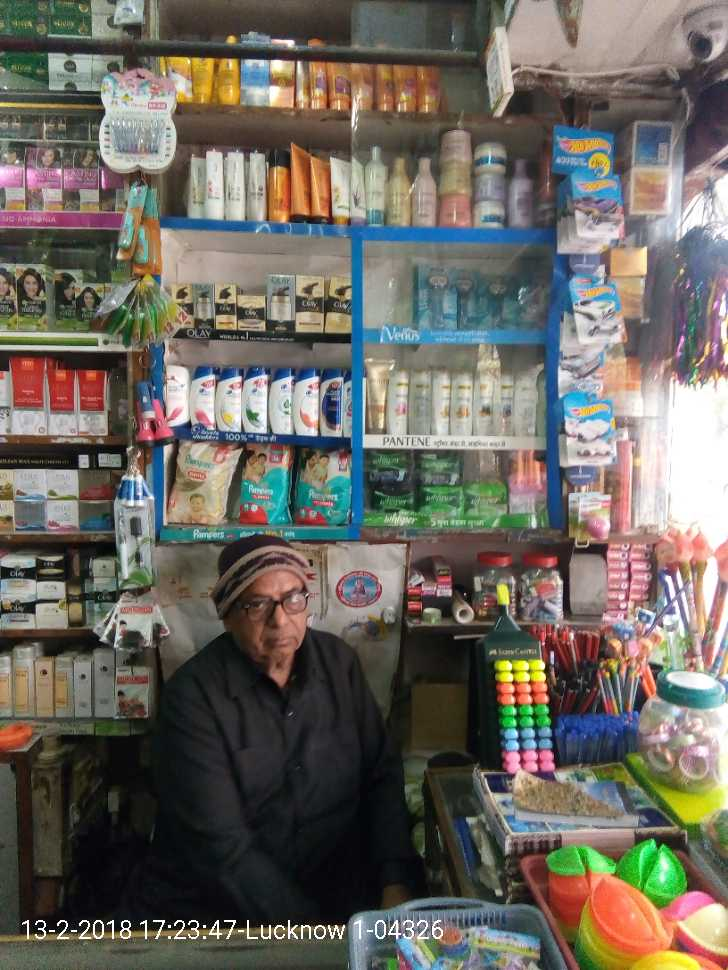venus: (478, 275, 514, 331), (514, 272, 546, 332), (424, 268, 455, 327), (455, 275, 478, 327)
